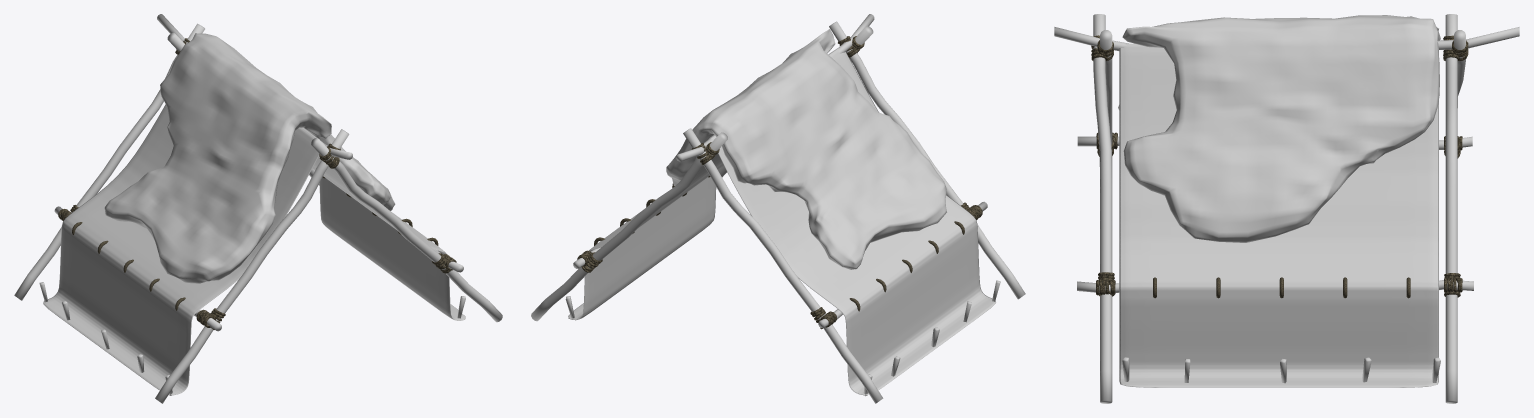
The model's file is highpoly_viking_tent_002.obj.
3 renders of one model, left to right at view 1: azimuth 30°, elevation 25°; view 2: azimuth 150°, elevation 25°; view 3: azimuth 270°, elevation 25°, orthographic. The views are drawn at different scales.
Visible parts, largest first — view 1: Cylinder.001, Cylinder.026, Cylinder.012, Cylinder.013, Cylinder.010, BezierCircle.104; view 2: Cylinder.026, Cylinder.001, Cylinder.010, Cylinder.009, Cylinder.012, BezierCircle.104, Cylinder.011; view 3: Cylinder.026, Cylinder.001, Cylinder.009, Cylinder.013, BezierCircle.104, Cylinder.011, Cylinder.012, Torus, Cylinder.015, Cylinder.010.
Boxes of the visible parts, box(x1,y1,x2,y2) form: Cylinder.001: box(104, 33, 395, 283); Cylinder.026: box(43, 104, 465, 395); Cylinder.012: box(155, 129, 349, 403); Cylinder.013: box(311, 137, 502, 322); Cylinder.010: box(14, 23, 204, 300); BezierCircle.104: box(58, 38, 456, 329); Cylinder.026: box(568, 48, 995, 395); Cylinder.001: box(666, 29, 946, 269); Cylinder.010: box(683, 128, 883, 403); Cylinder.009: box(531, 132, 727, 321); Cylinder.012: box(829, 21, 1025, 299); BezierCircle.104: box(577, 36, 982, 329); Cylinder.011: box(676, 14, 874, 161); Cylinder.026: box(1119, 41, 1438, 387); Cylinder.001: box(1118, 15, 1440, 242); Cylinder.009: box(1445, 14, 1457, 403); Cylinder.013: box(1093, 14, 1112, 403); BezierCircle.104: box(1091, 35, 1468, 297); Cylinder.011: box(1054, 27, 1519, 50); Cylinder.012: box(1100, 30, 1112, 178); Torus: box(1153, 277, 1410, 298); Cylinder.015: box(1077, 280, 1473, 292); Cylinder.010: box(1454, 30, 1465, 107).
Size of the model in its own units: 7.45 by 4.84 by 7.06.
